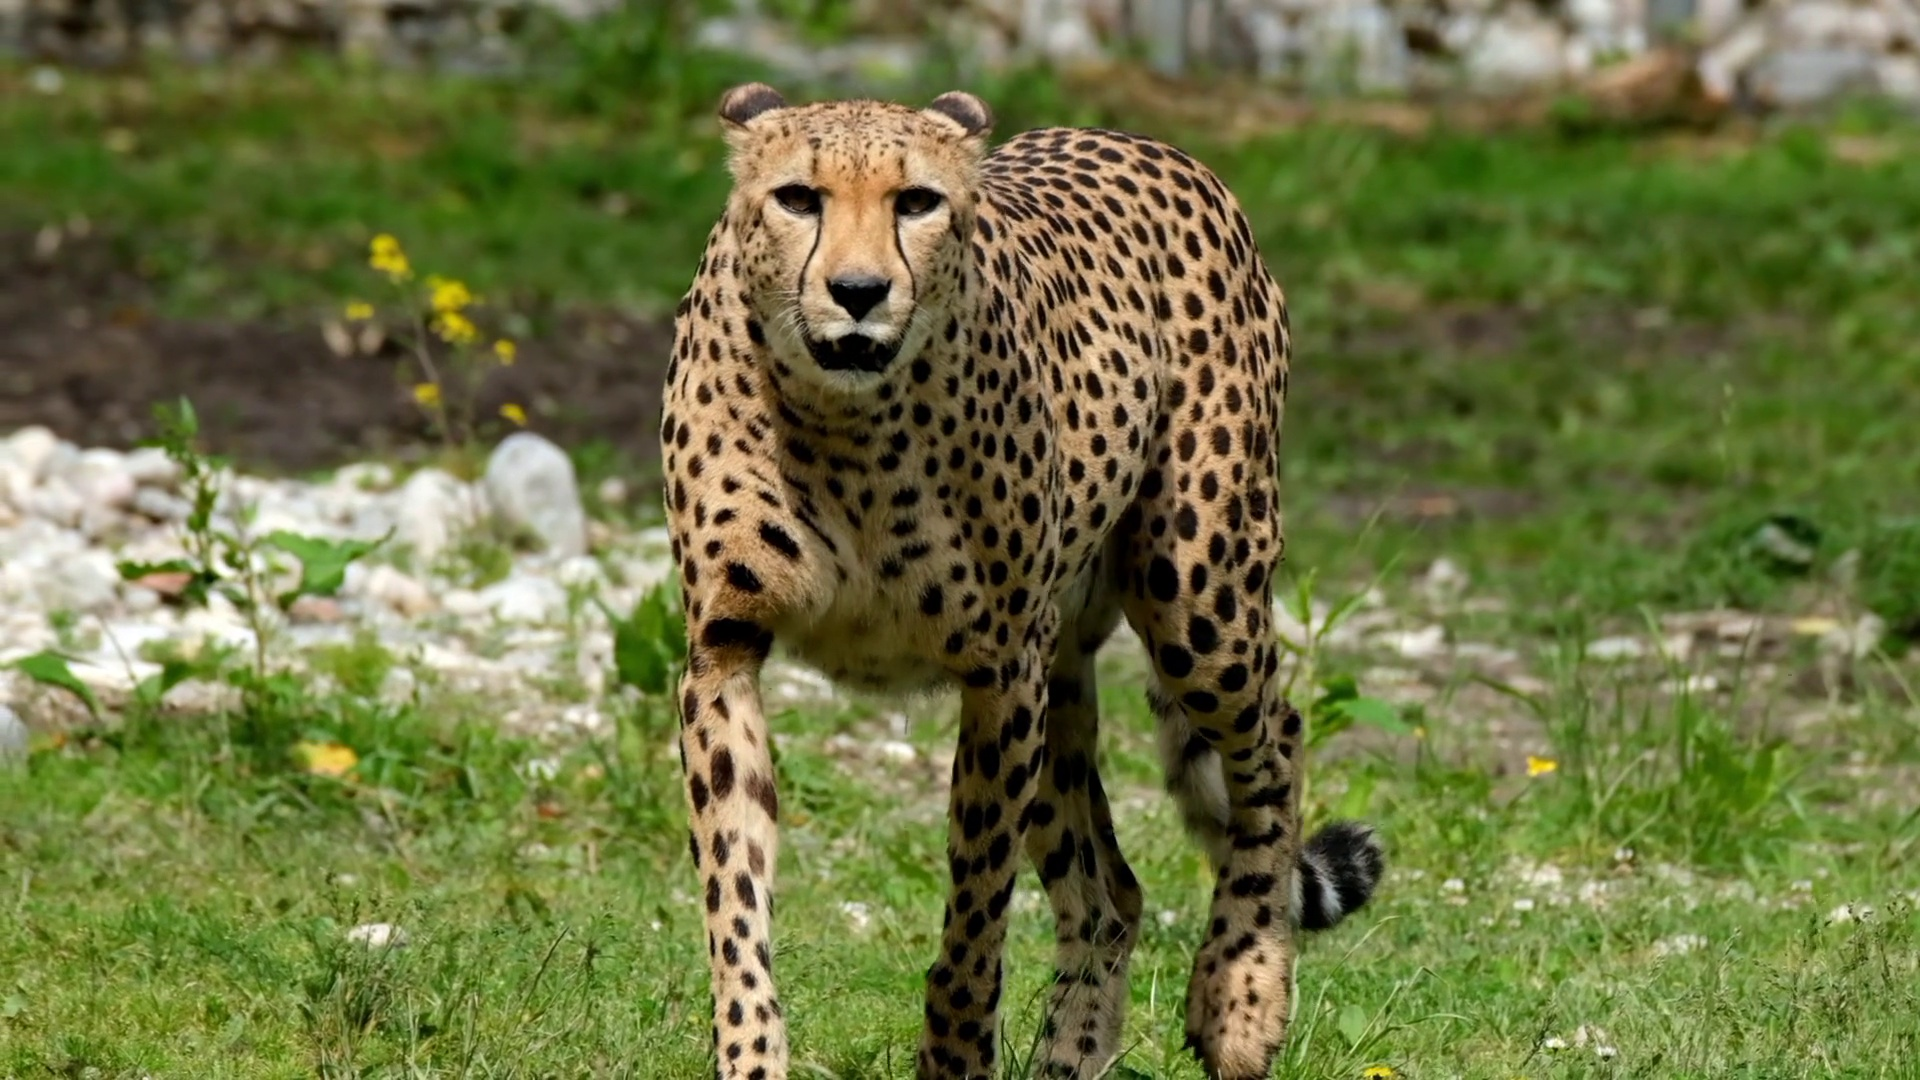Cheetah: (655, 79, 1391, 1080)
